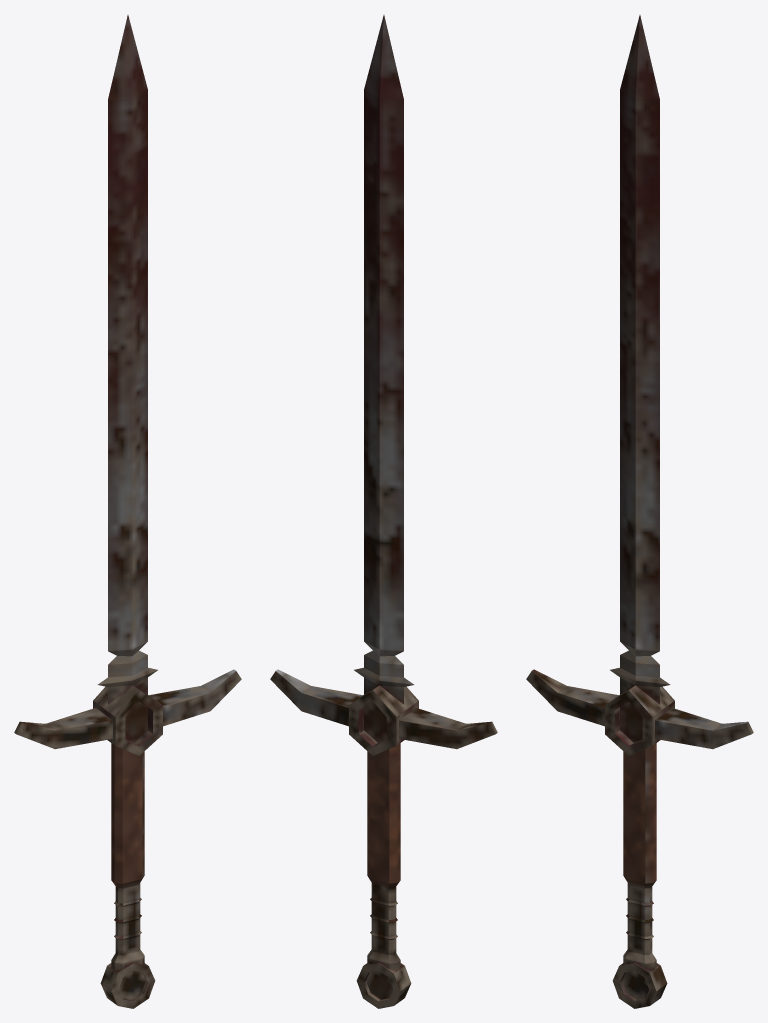
Rendered from Sword_02.fbx.
3 views of the same model, side by side, from view 1: azimuth 30°, elevation 25°; view 2: azimuth 150°, elevation 25°; view 3: azimuth 330°, elevation 25° (orthographic).
Visible parts, largest first — view 1: Sword_02; view 2: Sword_02; view 3: Sword_02.
Boxes of the visible parts, x1,y1,x2,y2 form: Sword_02: (14, 15, 241, 1008); Sword_02: (270, 15, 497, 1008); Sword_02: (526, 15, 753, 1008).
Bounding box in the file's own units: 42.41 × 178 × 7.32.
1 material, 1 textured.
